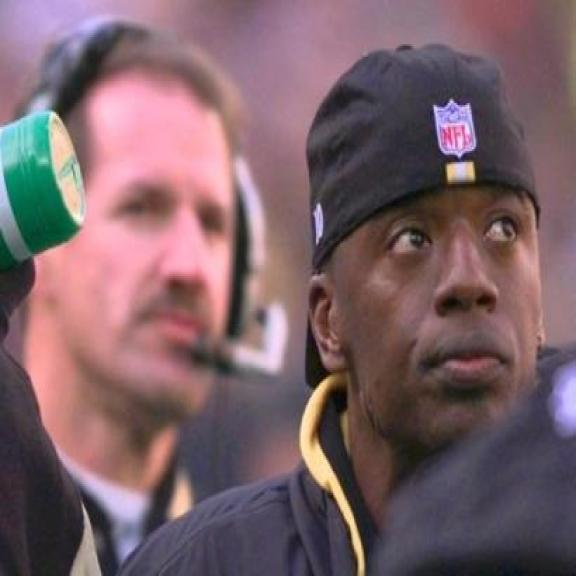face: (43, 69, 246, 423), (309, 181, 551, 458)
